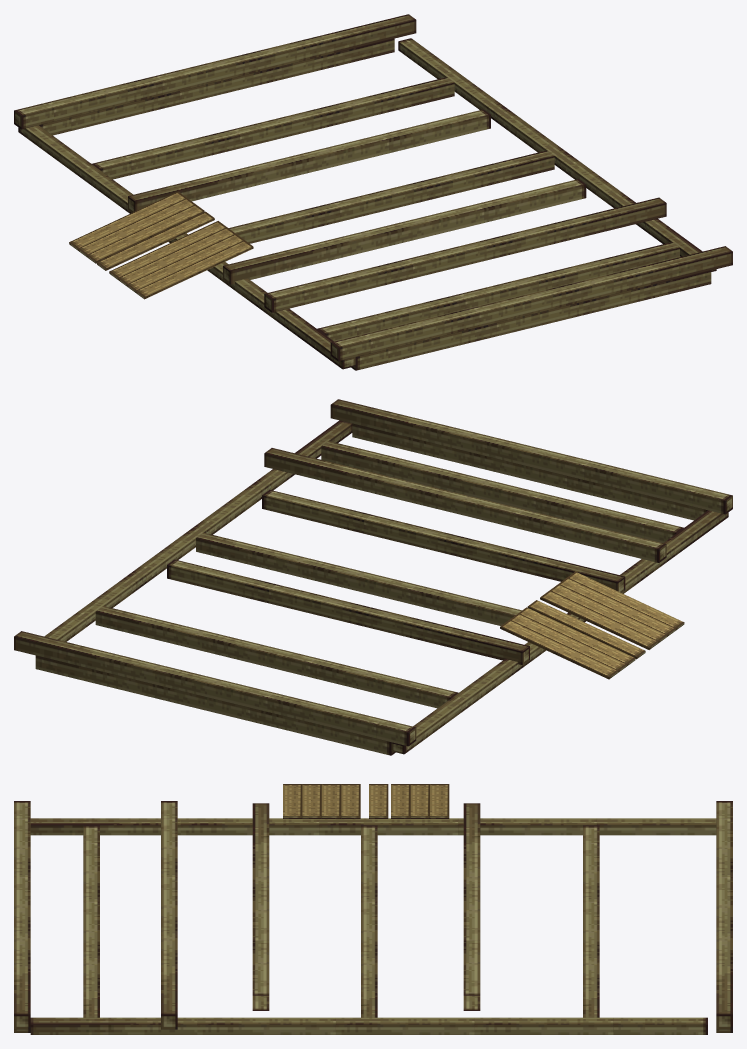
The model's file is EnvBdgMD_Wilderness_A_Outdoor_A_Timelapuse_A.FBX.
The picture shows the model from 3 angles, top to bottom: view 1: azimuth 30°, elevation 25°; view 2: azimuth 150°, elevation 25°; view 3: azimuth 270°, elevation 25°; orthographic projection. The views are drawn at different scales.
Visible parts, largest first — view 1: EnvBdgMD_Wilderness_A_Outdoor_A_Timelapuse_A; view 2: EnvBdgMD_Wilderness_A_Outdoor_A_Timelapuse_A; view 3: EnvBdgMD_Wilderness_A_Outdoor_A_Timelapuse_A.
Boxes of the visible parts, <box> form: EnvBdgMD_Wilderness_A_Outdoor_A_Timelapuse_A: <box>14,14,732,370</box>; EnvBdgMD_Wilderness_A_Outdoor_A_Timelapuse_A: <box>14,399,732,755</box>; EnvBdgMD_Wilderness_A_Outdoor_A_Timelapuse_A: <box>14,784,732,1034</box>.
Bounding box in the file's own units: 1078 × 68.43 × 1295.
1 material, 1 textured.
